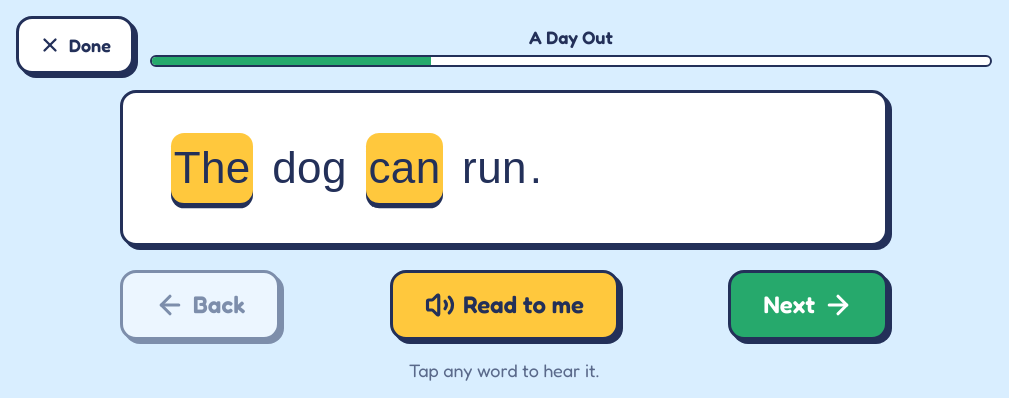
it: StoryReader › shows one page at a time and turns pages with the buttons
Expected: the element named "Page 1 of 3" reads "The dog can run .", [120,90,888,246]
Expected: the button "Back" is disabled, [120,270,280,340]
What coordinates should you click on to do the following:
click the button "Next"
I would click on:
 (808, 305)
Its box is [728,270,888,340].
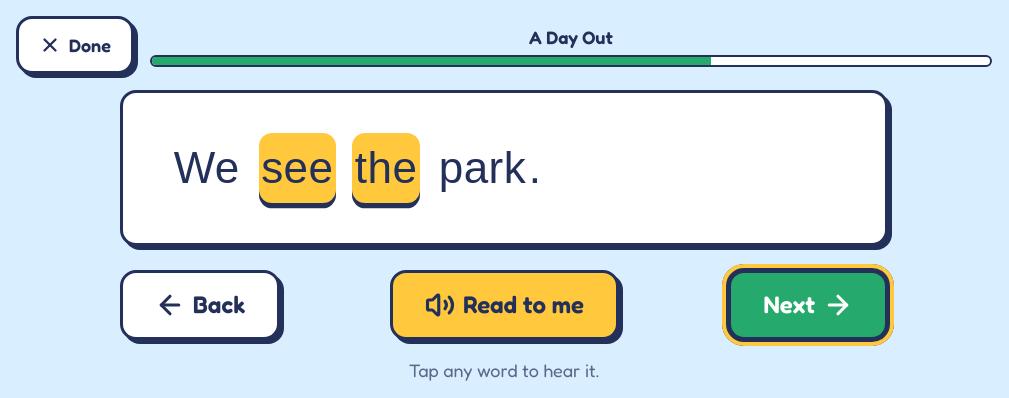
Now the element named "Page 2 of 3" reads "We see the park .", box [120,90,888,246]
